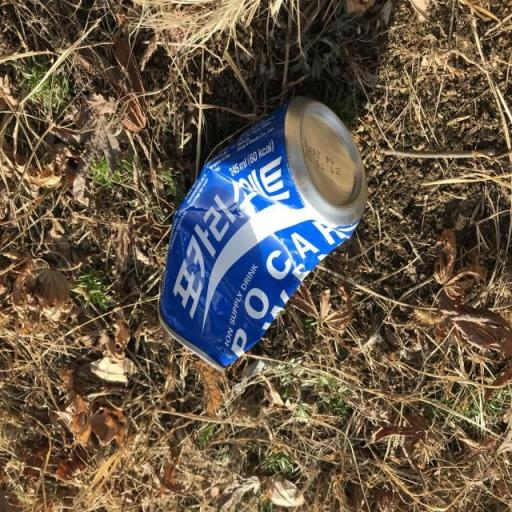metal: (125, 79, 392, 398)
